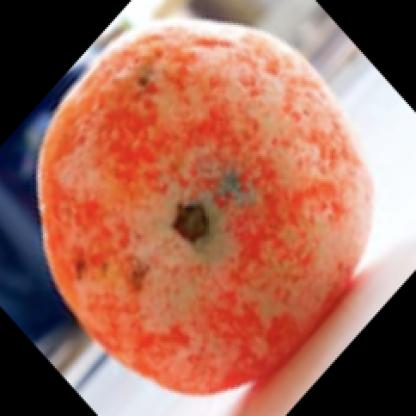rotten: (38, 17, 368, 393)
